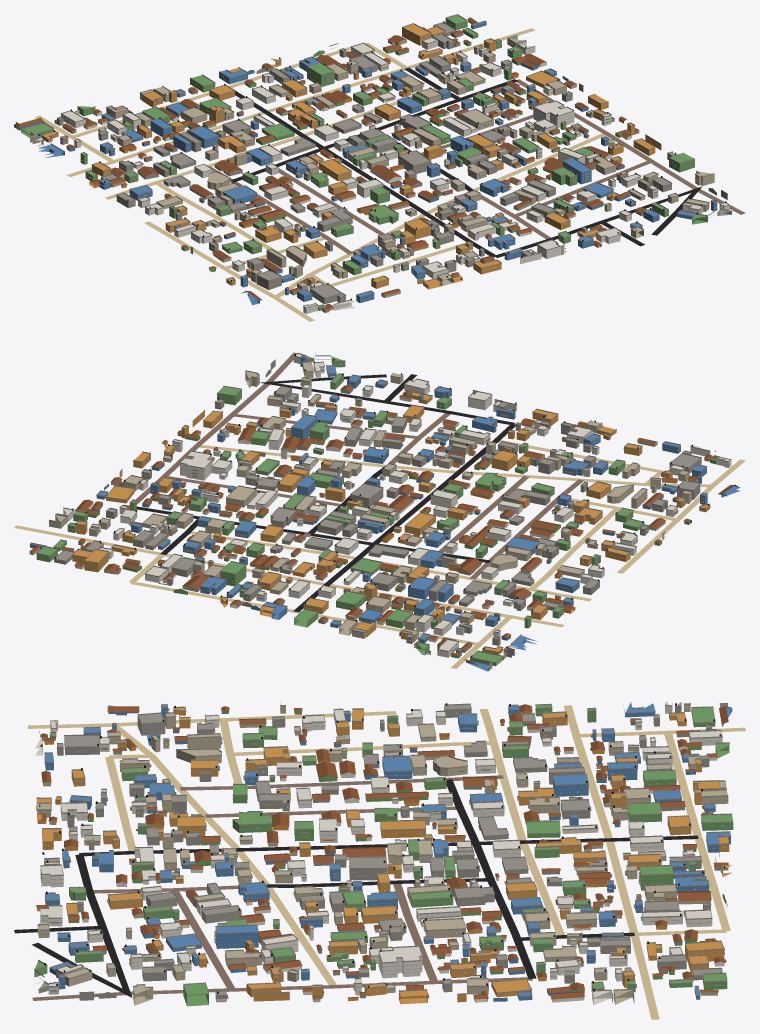
The model's file is zone_t-2_1.glb.
The picture shows the model from 3 angles, top to bottom: view 1: azimuth 30°, elevation 25°; view 2: azimuth 150°, elevation 25°; view 3: azimuth 270°, elevation 25°; orthographic projection. The views are drawn at different scales.
Visible parts, largest first — view 1: parapet_t-2_1, bld_peinture_blanc_t-2_1-col, bld_beton_t-2_1-col, bld_peinture_ocre_t-2_1-col, bld_peinture_ecaillee_t-2_1-col, bld_peinture_bleu_t-2_1-col, bld_peinture_vert_t-2_1-col, toit_tole_t-2_1, route_residential_terre_t-2_1, bandeau_t-2_1, route_residential_bitume_t-2_1, route_residential_paves_t-2_1 (+2 smaller); view 2: parapet_t-2_1, bld_peinture_blanc_t-2_1-col, bld_beton_t-2_1-col, bld_peinture_ocre_t-2_1-col, bld_peinture_ecaillee_t-2_1-col, bld_peinture_bleu_t-2_1-col, toit_tole_t-2_1, bld_peinture_vert_t-2_1-col, route_residential_terre_t-2_1, bandeau_t-2_1, route_residential_bitume_t-2_1, route_residential_paves_t-2_1 (+2 smaller); view 3: parapet_t-2_1, bld_peinture_blanc_t-2_1-col, bld_beton_t-2_1-col, bld_peinture_ocre_t-2_1-col, bld_peinture_ecaillee_t-2_1-col, toit_tole_t-2_1, bld_peinture_vert_t-2_1-col, bld_peinture_bleu_t-2_1-col, route_residential_terre_t-2_1, route_residential_bitume_t-2_1, bandeau_t-2_1, route_residential_paves_t-2_1 (+2 smaller).
Part boxes in pixels (x1,y1,x2,y2): parapet_t-2_1: (15,14,732,308); bld_peinture_blanc_t-2_1-col: (36,38,729,313); bld_beton_t-2_1-col: (30,23,731,312); bld_peinture_ocre_t-2_1-col: (41,24,661,310); bld_peinture_ecaillee_t-2_1-col: (16,20,714,297); bld_peinture_bleu_t-2_1-col: (14,21,717,305); bld_peinture_vert_t-2_1-col: (21,15,707,310); toit_tole_t-2_1: (17,17,646,310); route_residential_terre_t-2_1: (35,28,605,321); bandeau_t-2_1: (30,21,728,311); route_residential_bitume_t-2_1: (231,67,702,257); route_residential_paves_t-2_1: (209,79,745,254); parapet_t-2_1: (29,352,731,664); bld_peinture_blanc_t-2_1-col: (63,354,731,657); bld_beton_t-2_1-col: (54,354,701,657); bld_peinture_ocre_t-2_1-col: (72,390,711,654); bld_peinture_ecaillee_t-2_1-col: (29,362,697,669); bld_peinture_bleu_t-2_1-col: (30,356,740,671); toit_tole_t-2_1: (29,385,734,665); bld_peinture_vert_t-2_1-col: (36,356,716,666); route_residential_terre_t-2_1: (14,440,745,668); bandeau_t-2_1: (36,356,730,666); route_residential_bitume_t-2_1: (136,374,515,612); route_residential_paves_t-2_1: (129,352,583,579); parapet_t-2_1: (34,702,733,997); bld_peinture_blanc_t-2_1-col: (35,701,724,1004); bld_beton_t-2_1-col: (38,702,728,1002); bld_peinture_ocre_t-2_1-col: (36,707,731,1004); bld_peinture_ecaillee_t-2_1-col: (37,704,728,1005); toit_tole_t-2_1: (36,704,728,999); bld_peinture_vert_t-2_1-col: (34,705,733,1006); bld_peinture_bleu_t-2_1-col: (44,702,732,1001); route_residential_terre_t-2_1: (27,705,745,1019); route_residential_bitume_t-2_1: (14,779,698,997); bandeau_t-2_1: (34,707,731,999); route_residential_paves_t-2_1: (32,775,532,1000).
Size of the model in its own units: 541 by 14 by 532.
